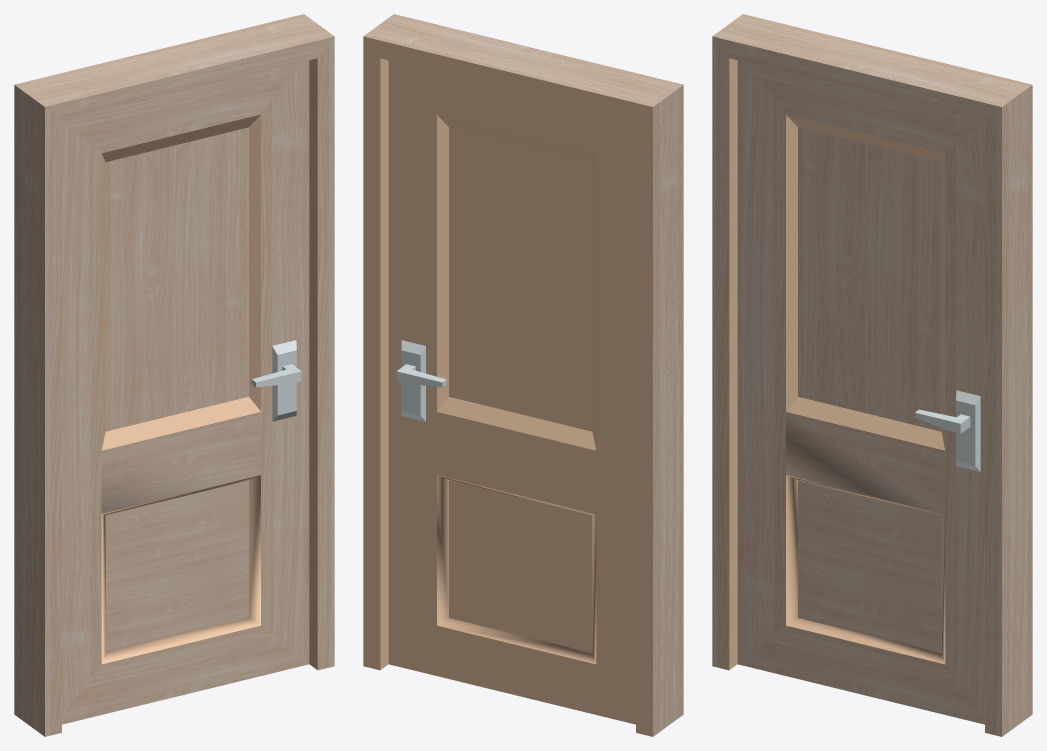
File: porta-texture.glb
3 renders of one model, left to right at view 1: azimuth 30°, elevation 25°; view 2: azimuth 150°, elevation 25°; view 3: azimuth 330°, elevation 25°, orthographic.
Parts seen in each view (by area): view 1: door; view 2: door; view 3: door.
Boxes of the visible parts, box(x1,y1,x2,y2) form: door: box(14, 14, 334, 736); door: box(363, 14, 683, 736); door: box(712, 14, 1032, 736).
Bounding box in the file's own units: 0.486 × 1.01 × 0.1134.
Materials: 3 (1 with a texture image).
